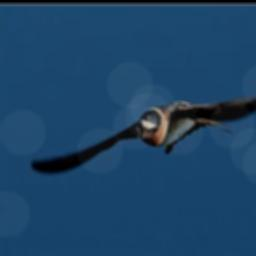Swallow: (28, 82, 256, 171)
